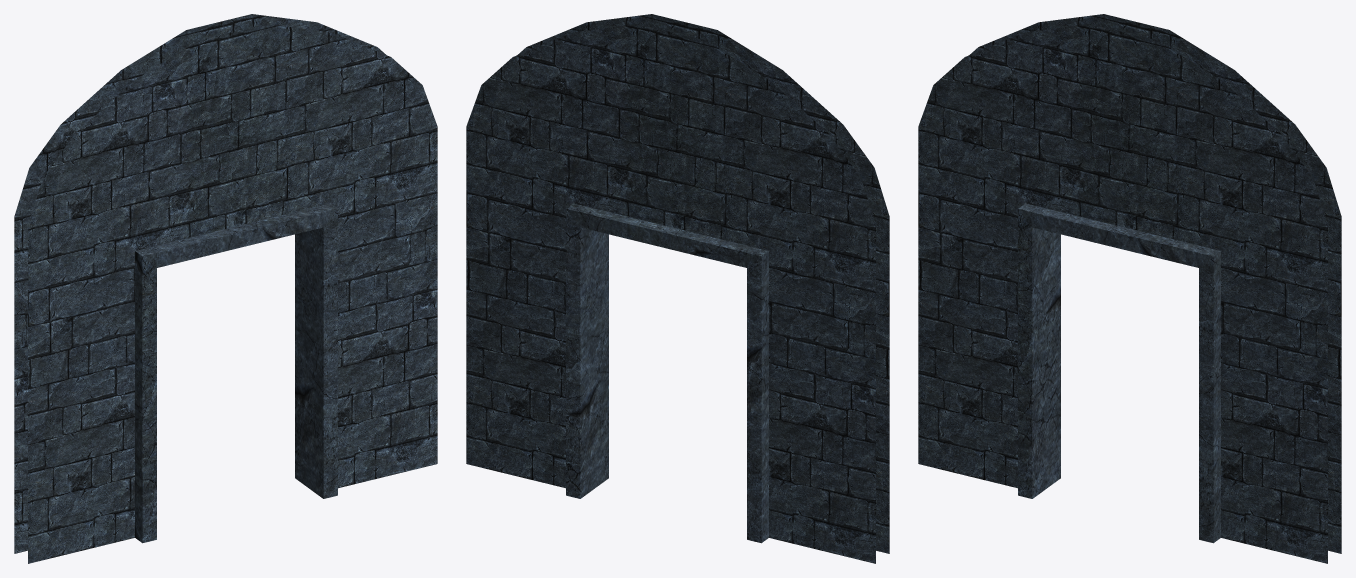
The model's file is ArchTunnel_wall.FBX.
3 views of the same model, side by side, from view 1: azimuth 30°, elevation 25°; view 2: azimuth 150°, elevation 25°; view 3: azimuth 330°, elevation 25° (orthographic).
Visible parts, largest first — view 1: ArchTunnel_wall; view 2: ArchTunnel_wall; view 3: ArchTunnel_wall.
Part boxes in pixels (<box>): ArchTunnel_wall: <box>14,14,437,563</box>; ArchTunnel_wall: <box>466,14,889,563</box>; ArchTunnel_wall: <box>918,14,1341,563</box>.
Size of the model in its own units: 62.52 by 70.28 by 7.53.
